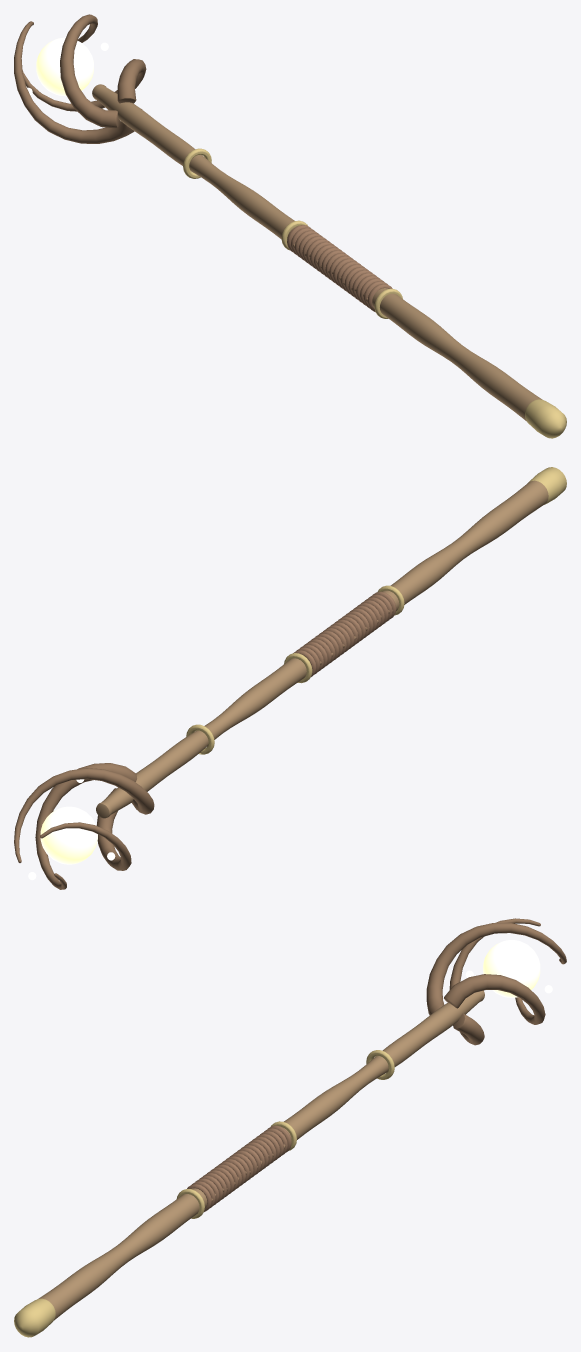
The model's file is th31_magierstab.glb.
3 views of the same model, one above another, from view 1: azimuth 30°, elevation 25°; view 2: azimuth 150°, elevation 25°; view 3: azimuth 330°, elevation 25° (orthographic).
Visible parts, largest first — view 1: Dreh, Rohr.002, Rohr.001, Sphere, Rohr, Dreh.001; view 2: Dreh, Sphere, Rohr.002, Rohr, Rohr.001, Dreh.001; view 3: Dreh, Rohr.002, Rohr, Sphere, Rohr.001, Dreh.001.
Part boxes in pixels (<box>): Dreh: <box>92,84,542,421</box>; Rohr.002: <box>60,14,119,128</box>; Rohr.001: <box>14,21,142,143</box>; Sphere: <box>36,37,93,96</box>; Rohr: <box>22,59,146,111</box>; Dreh.001: <box>525,399,566,438</box>; Dreh: <box>96,480,548,818</box>; Sphere: <box>40,806,97,864</box>; Rohr.002: <box>14,768,154,862</box>; Rohr: <box>35,763,136,889</box>; Rohr.001: <box>40,788,131,870</box>; Dreh.001: <box>527,467,566,504</box>; Dreh: <box>38,990,484,1320</box>; Rohr.002: <box>426,923,566,1015</box>; Rohr: <box>444,974,545,1024</box>; Sphere: <box>483,940,540,997</box>; Rohr.001: <box>449,918,540,1045</box>; Dreh.001: <box>14,1298,55,1337</box>.
Bounding box in the file's own units: 0.2155 × 0.21 × 1.87.
